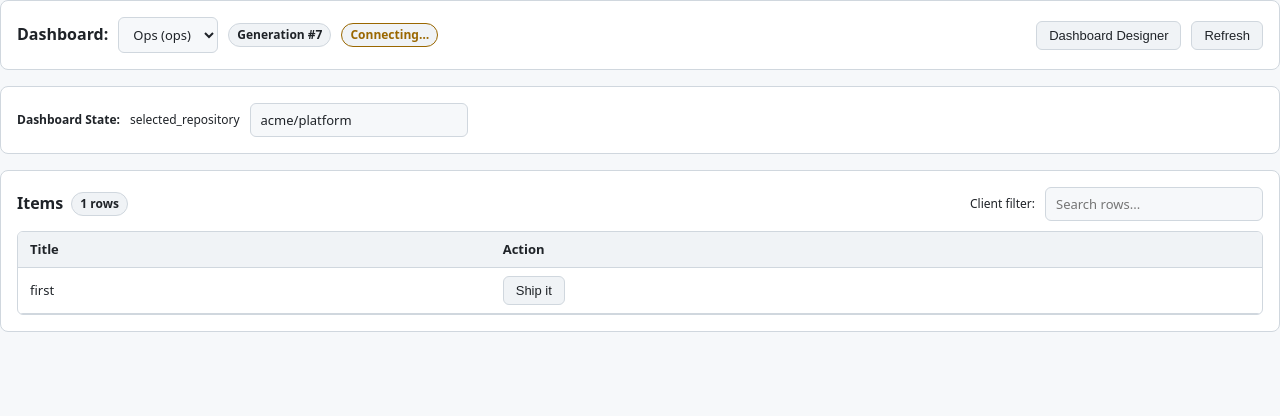
Test: DashboardView › runs Requests that resolve to a refresh without confirmation
Check: the text "first" is shown, box [18,268,491,314]
Click the button "Ship it" at (534, 290), box [503,276,565,305]
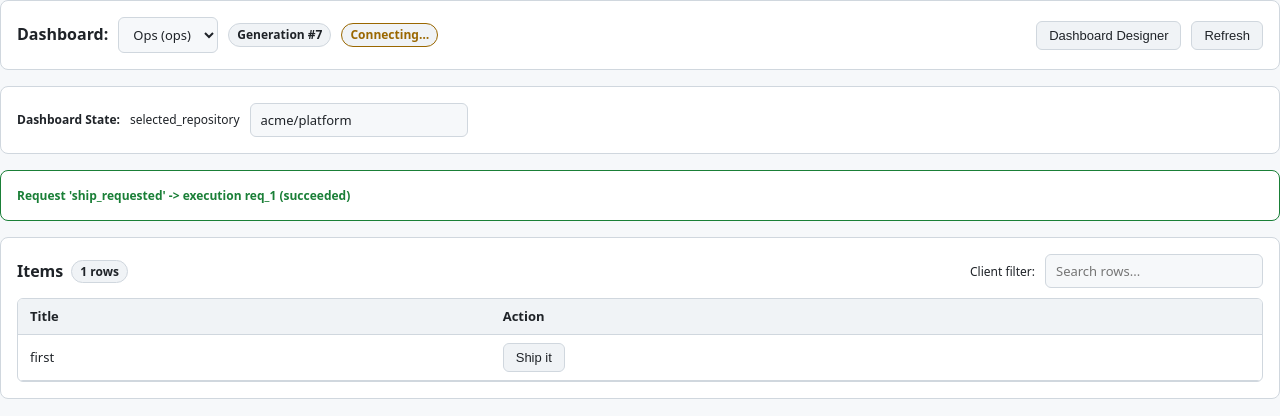
Check: the text "Request 'ship_requested' -> execution req_1 (succeeded)" is shown, box [0,170,1279,221]
